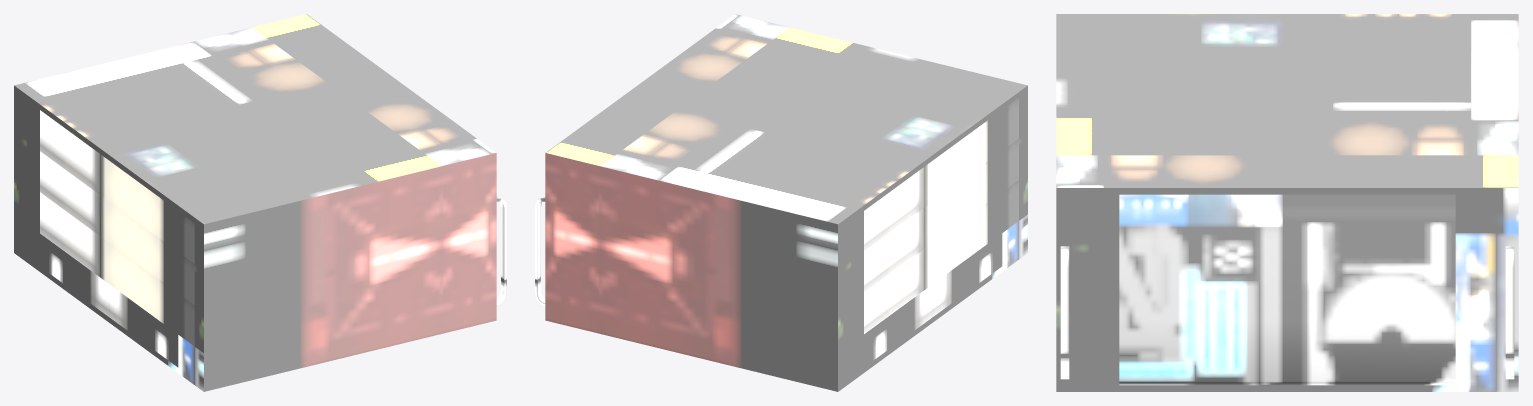
Rendered from SM_H_Government_Office_ServerParts_07_ATLAS.fbx.
The picture shows the model from 3 angles, left to right: view 1: azimuth 30°, elevation 25°; view 2: azimuth 150°, elevation 25°; view 3: azimuth 270°, elevation 25°; orthographic projection. The views are drawn at different scales.
Parts seen in each view (by area): view 1: SM_H_Government_Office_ServerParts_07_ATLAS_LOD0; view 2: SM_H_Government_Office_ServerParts_07_ATLAS_LOD0; view 3: SM_H_Government_Office_ServerParts_07_ATLAS_LOD0.
Part boxes in pixels (x1,y1,x2,y2): SM_H_Government_Office_ServerParts_07_ATLAS_LOD0: [14, 14, 506, 391]; SM_H_Government_Office_ServerParts_07_ATLAS_LOD0: [535, 14, 1027, 391]; SM_H_Government_Office_ServerParts_07_ATLAS_LOD0: [1056, 14, 1518, 391].
Size of the model in its own units: 39.02 by 42.08 by 21.88.
